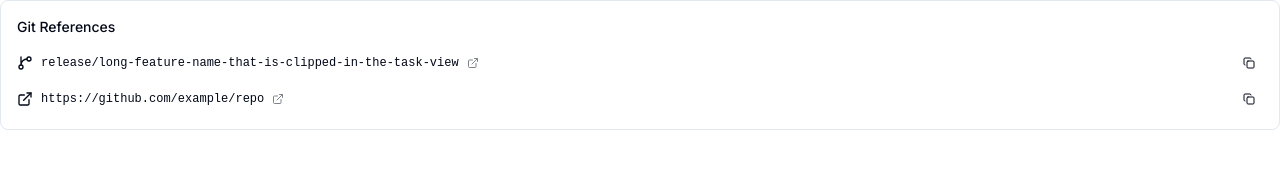
task Git reference copying › copies the exact URL when a repository reference has no separate ref value
Click the button named "Copy repository reference https://github.com/example/repo" at (1249,99), box [1235, 85, 1263, 113]
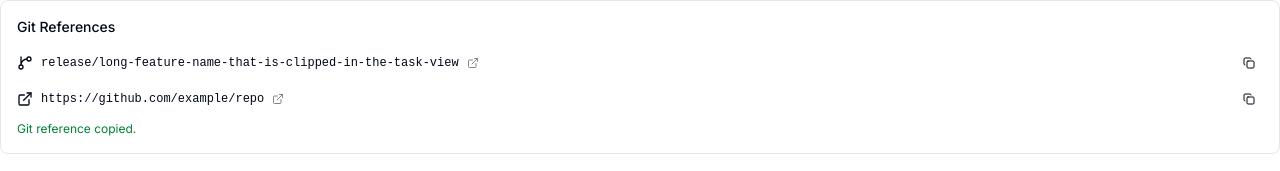
Check: the message reads "Git reference copied.", box [17, 121, 136, 136]
